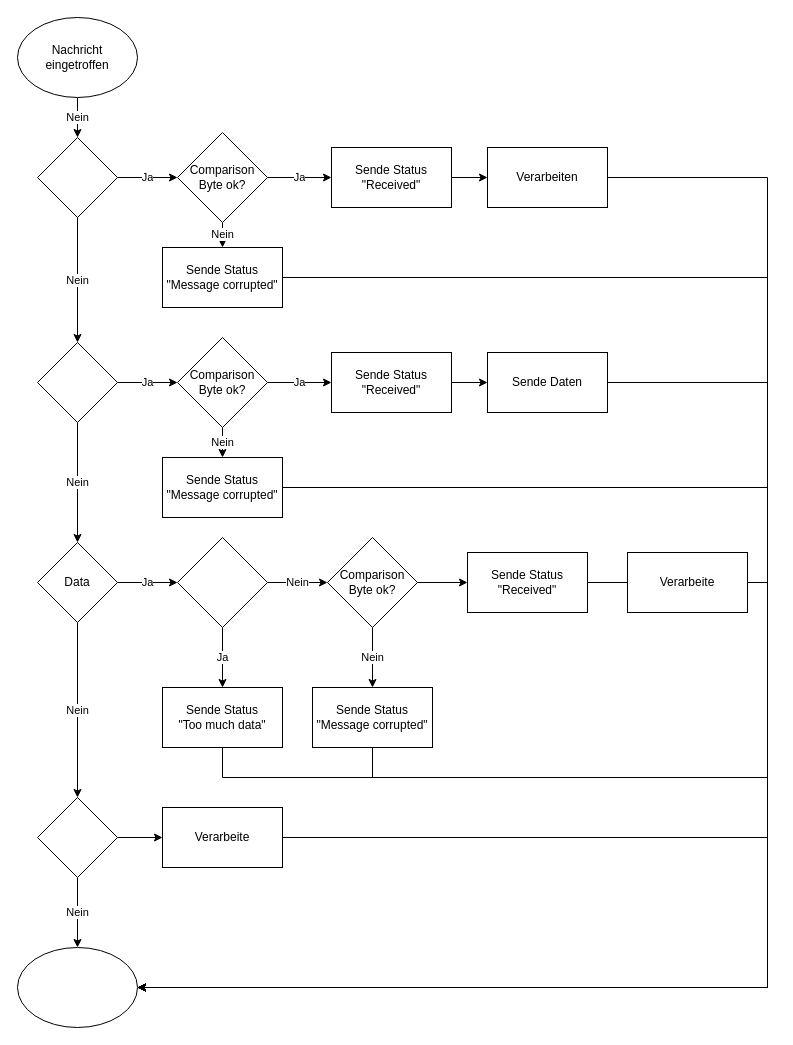
This 793x1045 diagram has some shape labels left out. Each missing label, with the box of its shape:
Command: (36, 136, 118, 218)
Fertig: (16, 946, 138, 1028)
Request: (36, 342, 118, 422)
Status: (36, 796, 118, 878)
Zu lang?: (176, 536, 268, 628)
